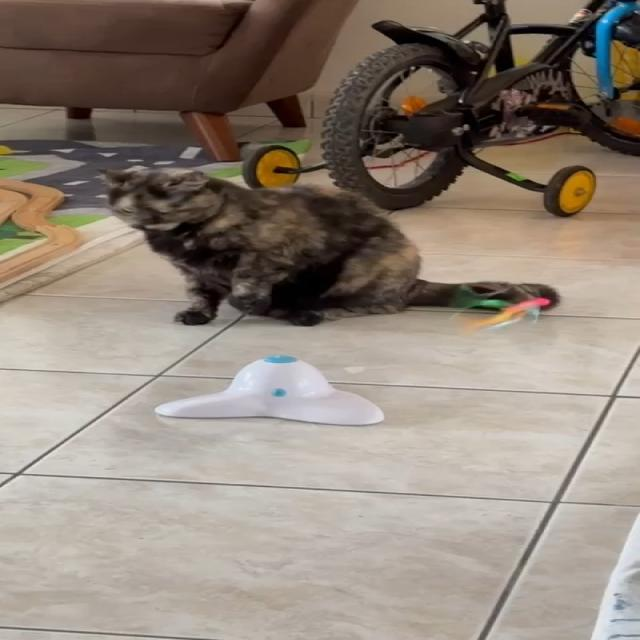authorized: (96, 165, 560, 327)
